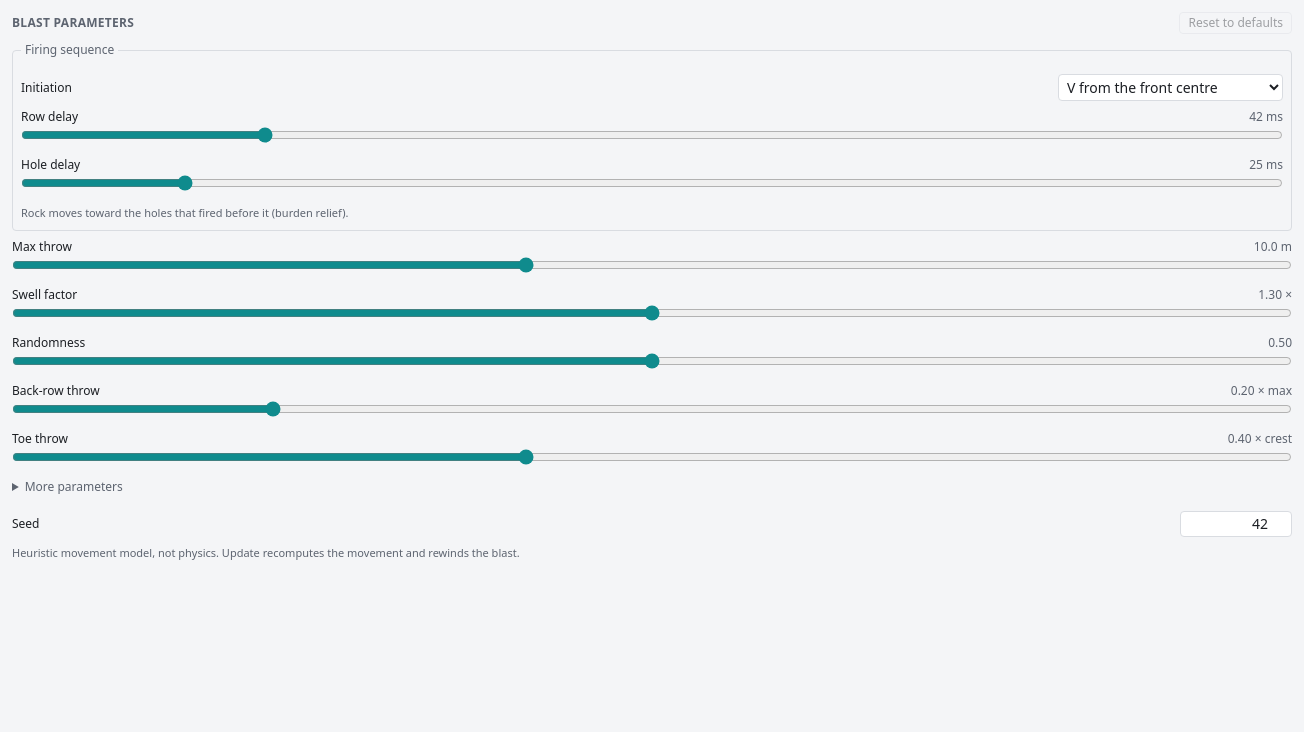
ParamsPanel (P5) › Discard drops the draft and shows the applied values again
Set the slider labelled "Max throw" to "3" at {"x": 172, "y": 264}, box x1=12 y1=256 x2=1292 y2=272
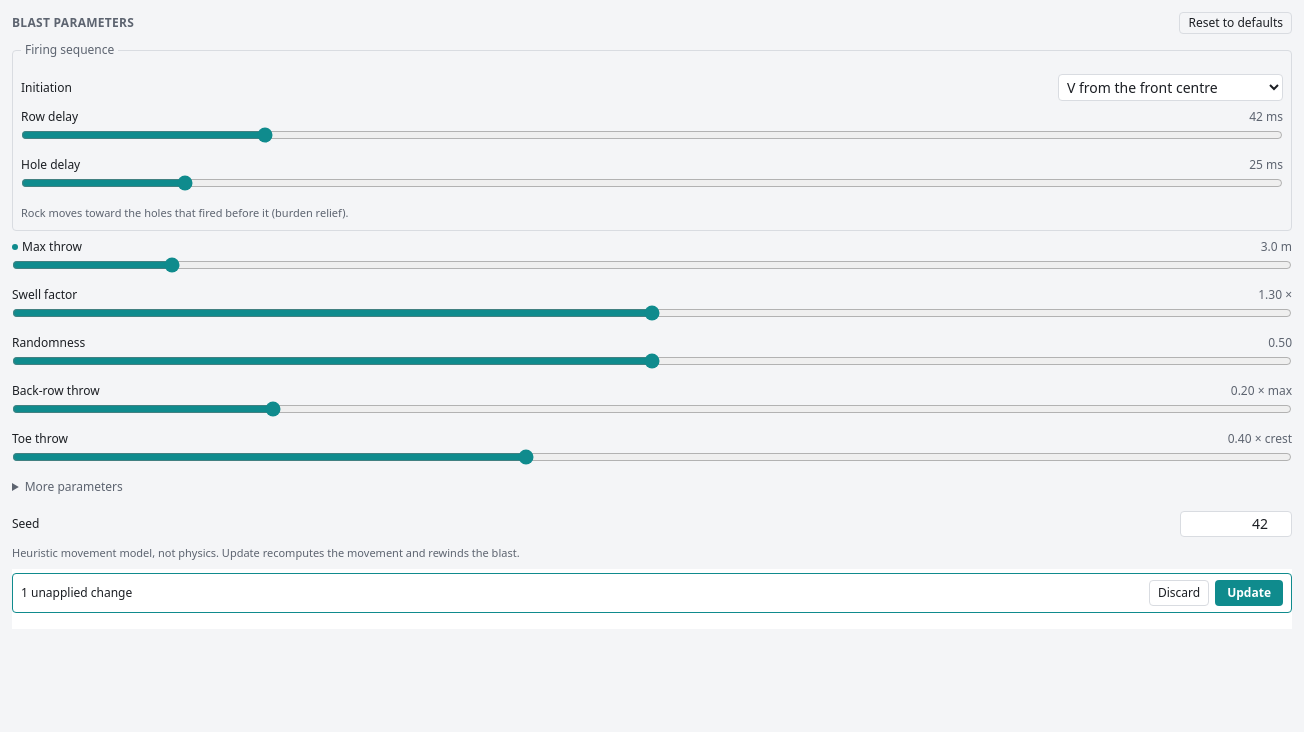
Click the button "Discard" at {"x": 1179, "y": 593}, box x1=1149 y1=580 x2=1209 y2=606
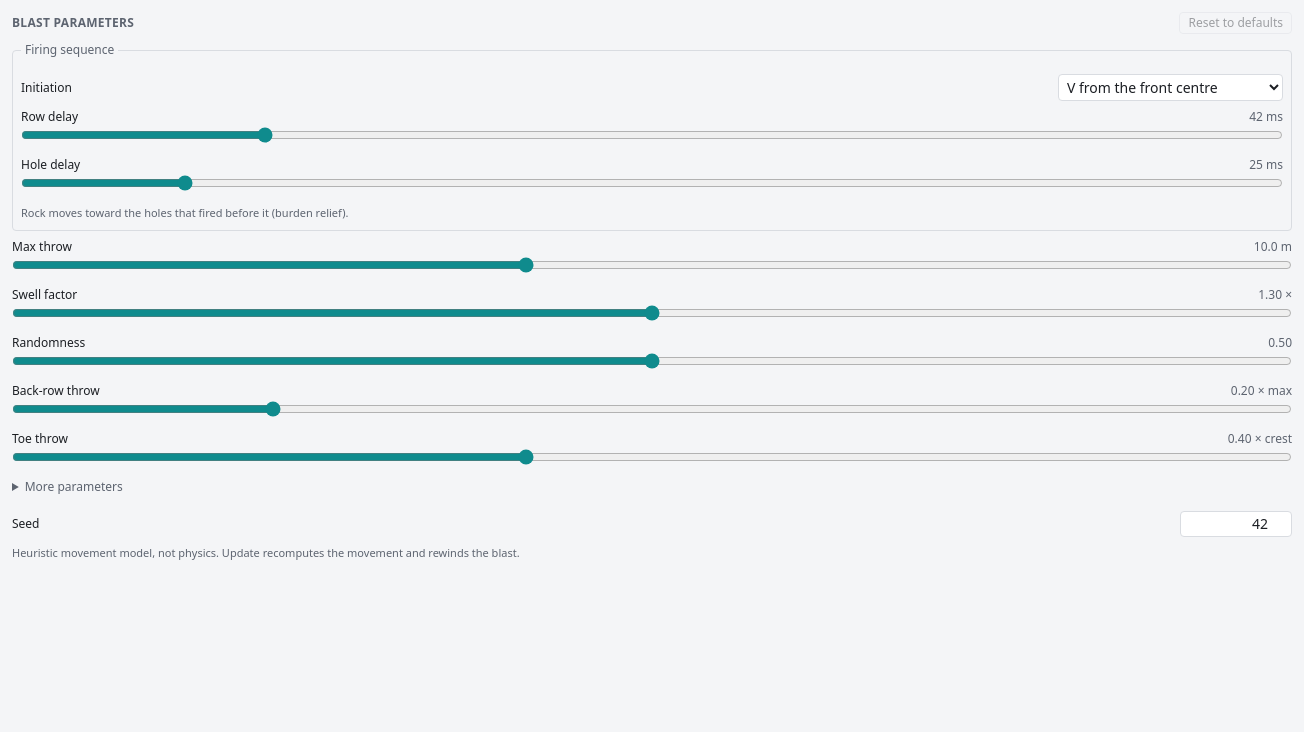
Expected: the slider labelled "Max throw" holds "10", x1=12 y1=256 x2=1292 y2=272
